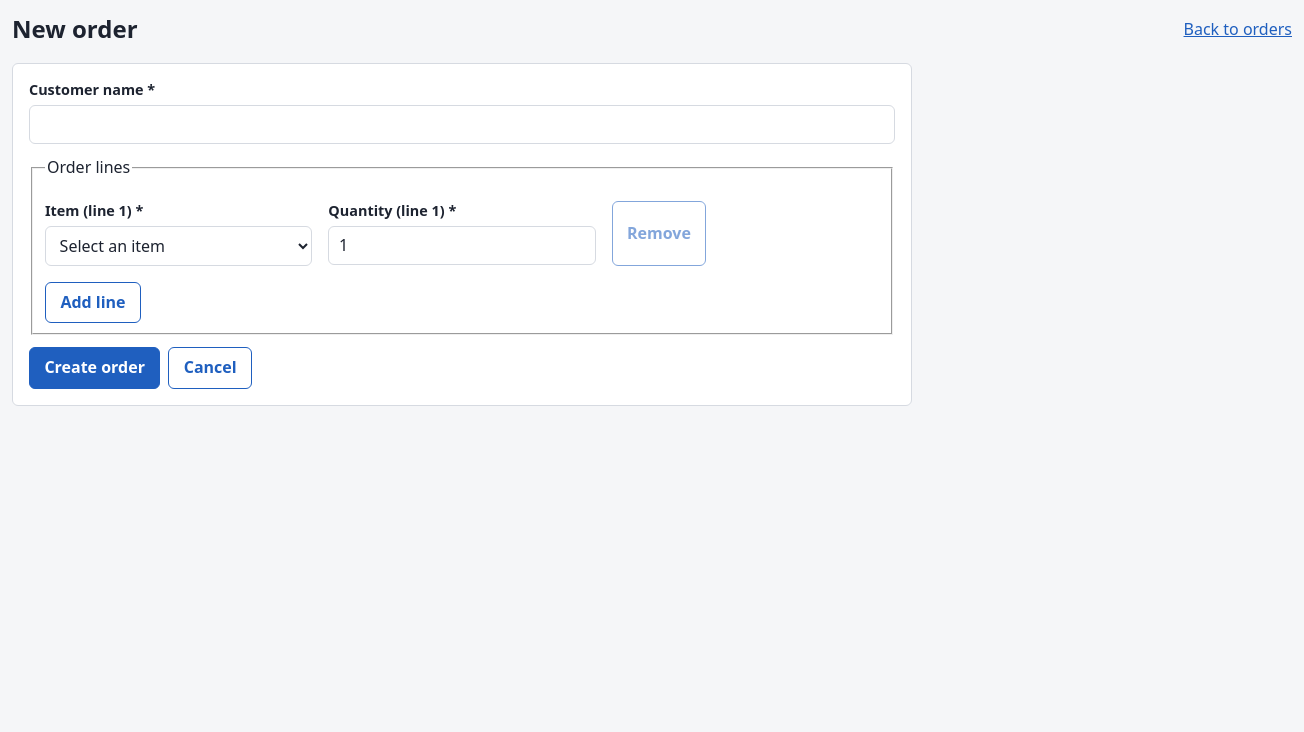
Scenario: CreateOrderPage › flags duplicate items across lines
This screenshot has width=1304, height=732.
Type "Acme Ltd" into the field labelled "Customer name *" at (462, 124), box [29,105,895,144]
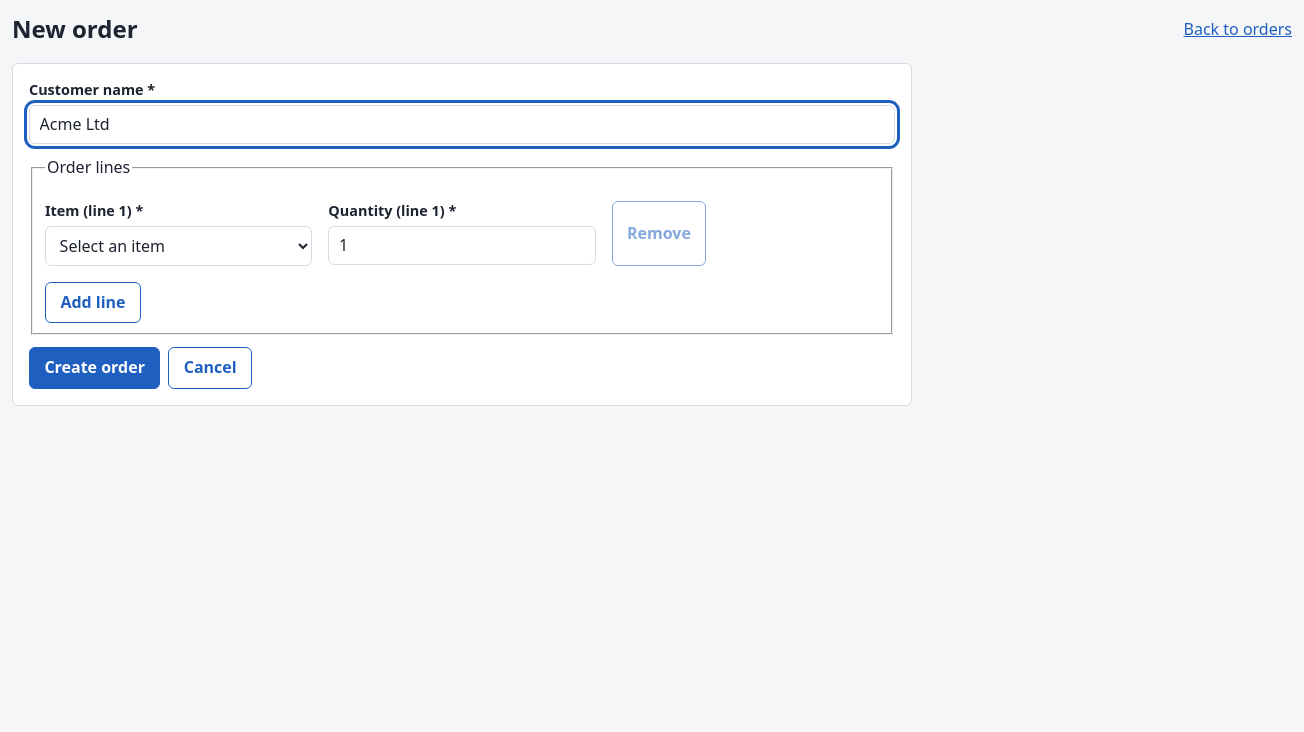
Select "BOLT-10 — Bolt" in the dropdown labelled "Item (line 1) *" at (179, 246), box [45,226,312,266]
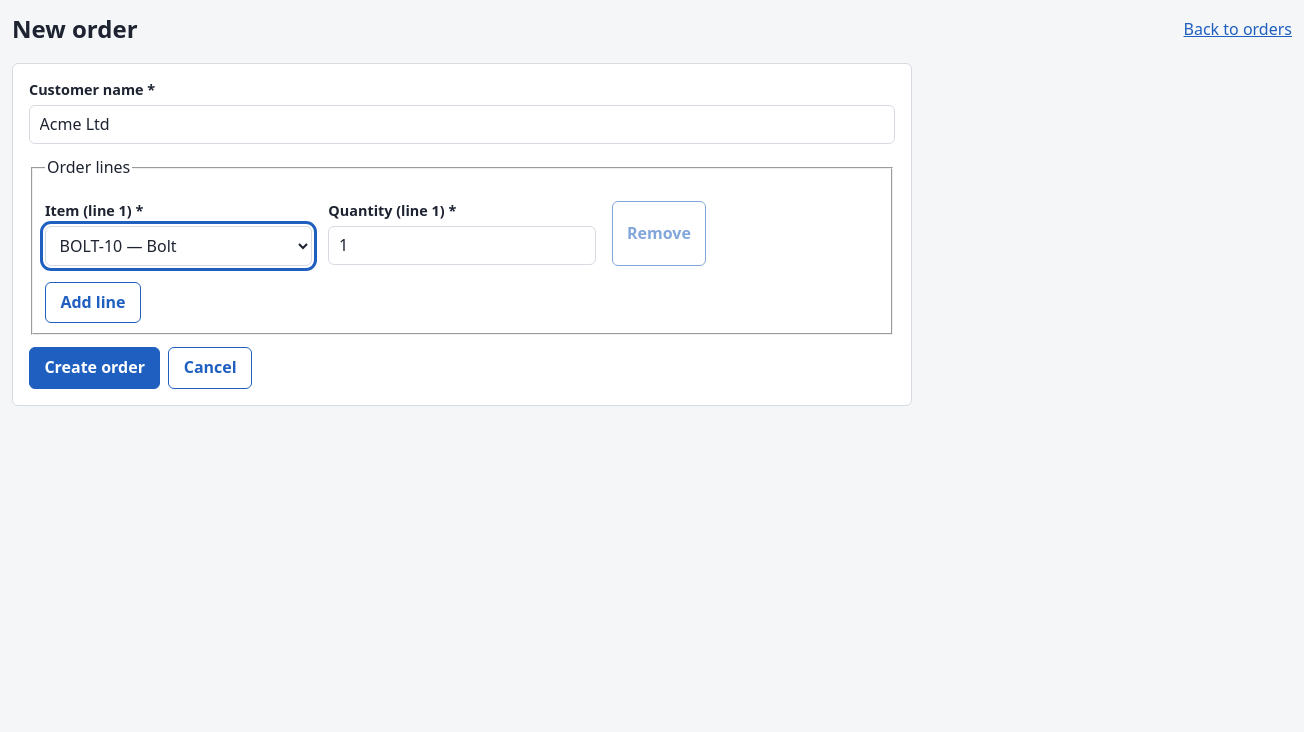
Click the button "Add line" at (93, 303), box [45,282,141,324]
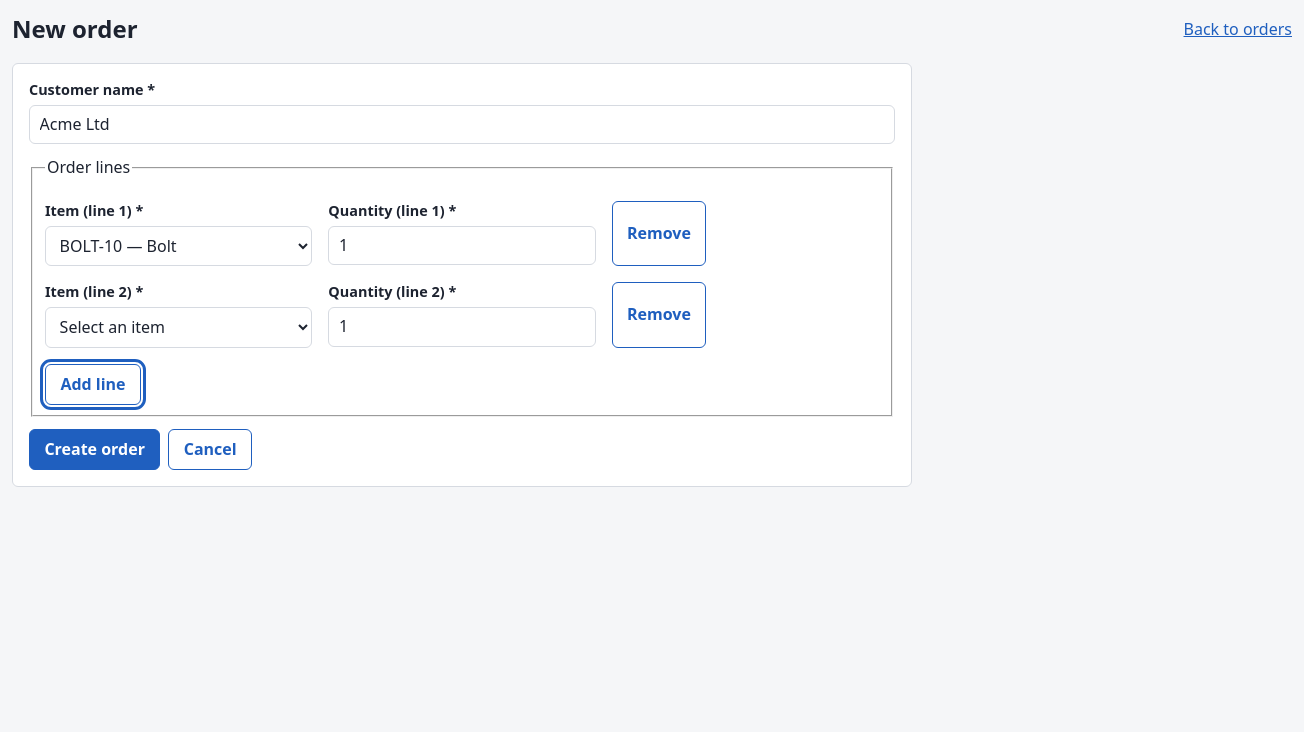
Select "BOLT-10 — Bolt" in the dropdown labelled "Item (line 2) *" at (179, 327), box [45,307,312,348]
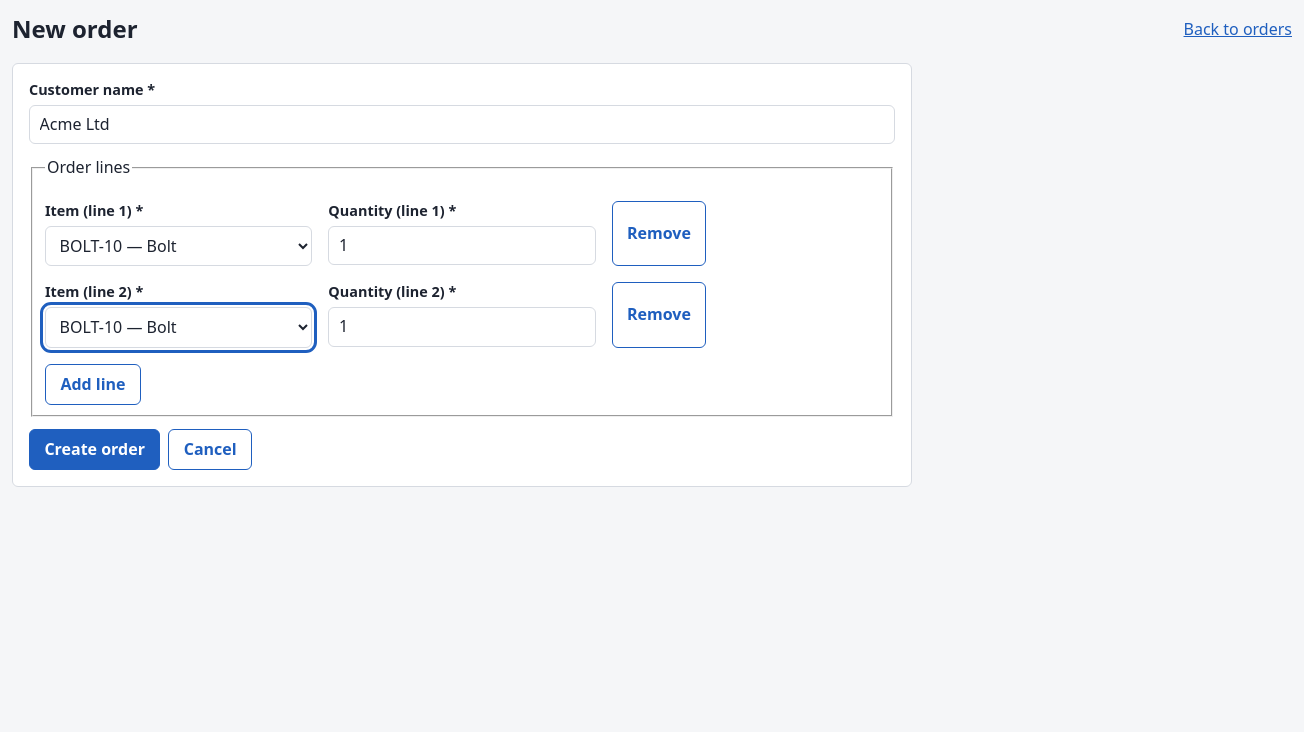
Click the button "Create order" at (95, 449), box [29,429,160,470]
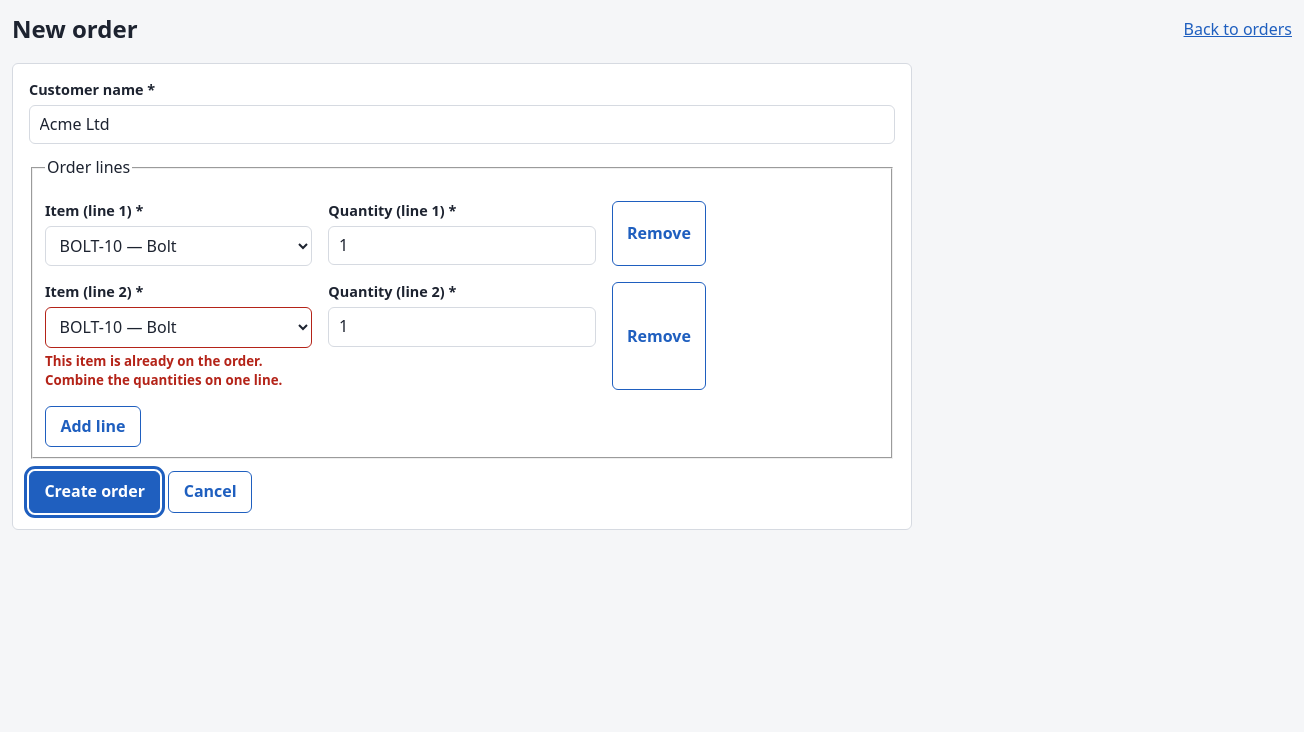
Check: the text "already on the order" is shown, box [45,352,282,389]
